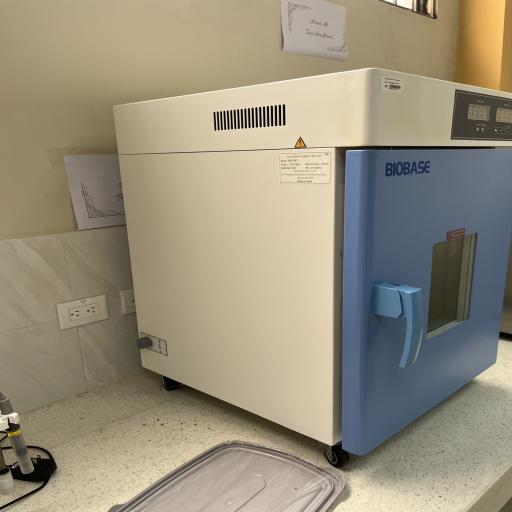Horno_Secado_Biobase: (100, 63, 512, 472)
